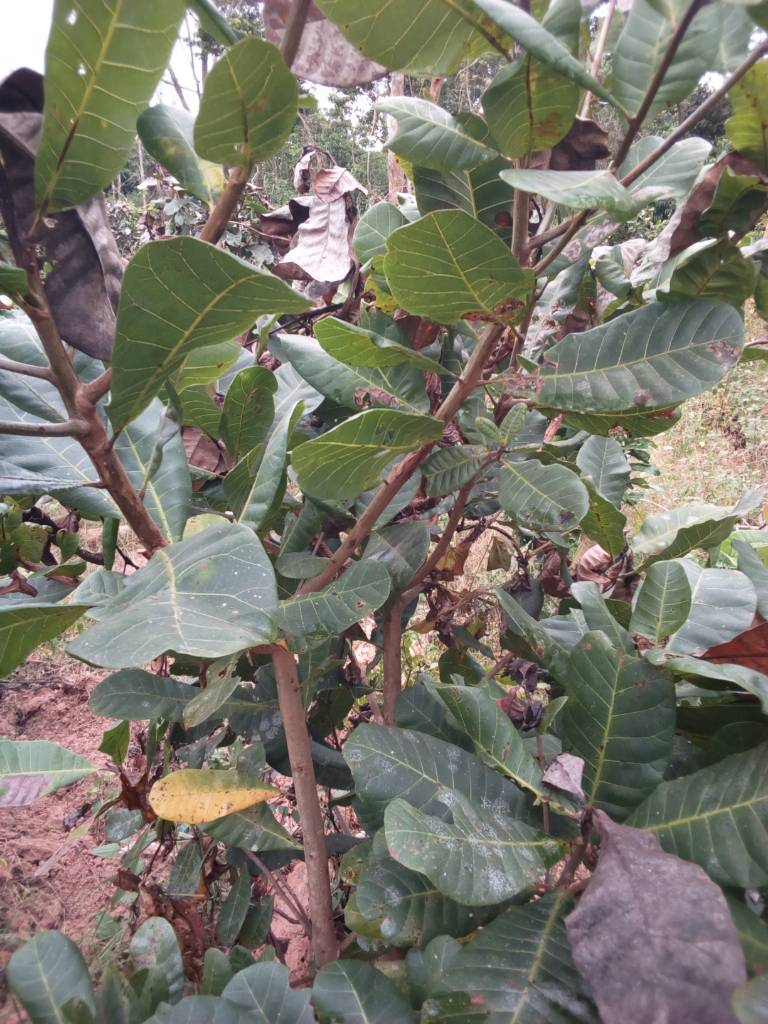Dessèchement des bourgeons: (501, 517, 582, 600), (494, 647, 553, 732), (411, 571, 455, 647)
